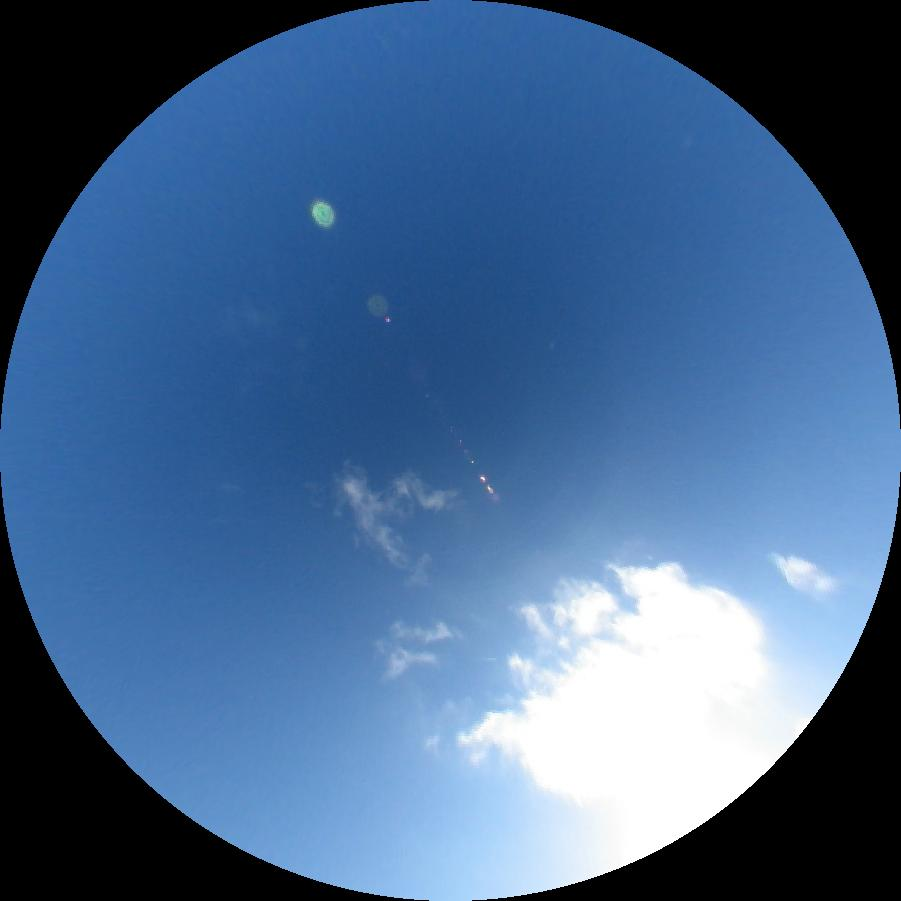contrail maybe: (376, 33, 393, 54)
contrail young: (473, 656, 497, 662)
sun: (576, 680, 789, 863)
